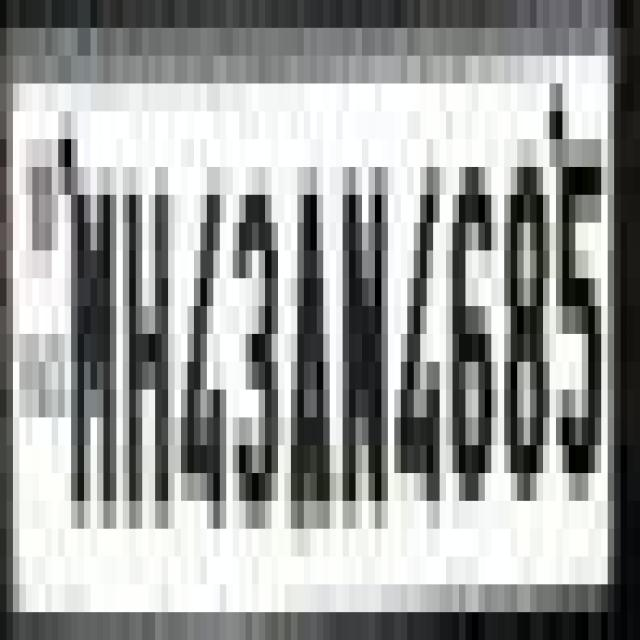plate: (7, 28, 601, 640)
